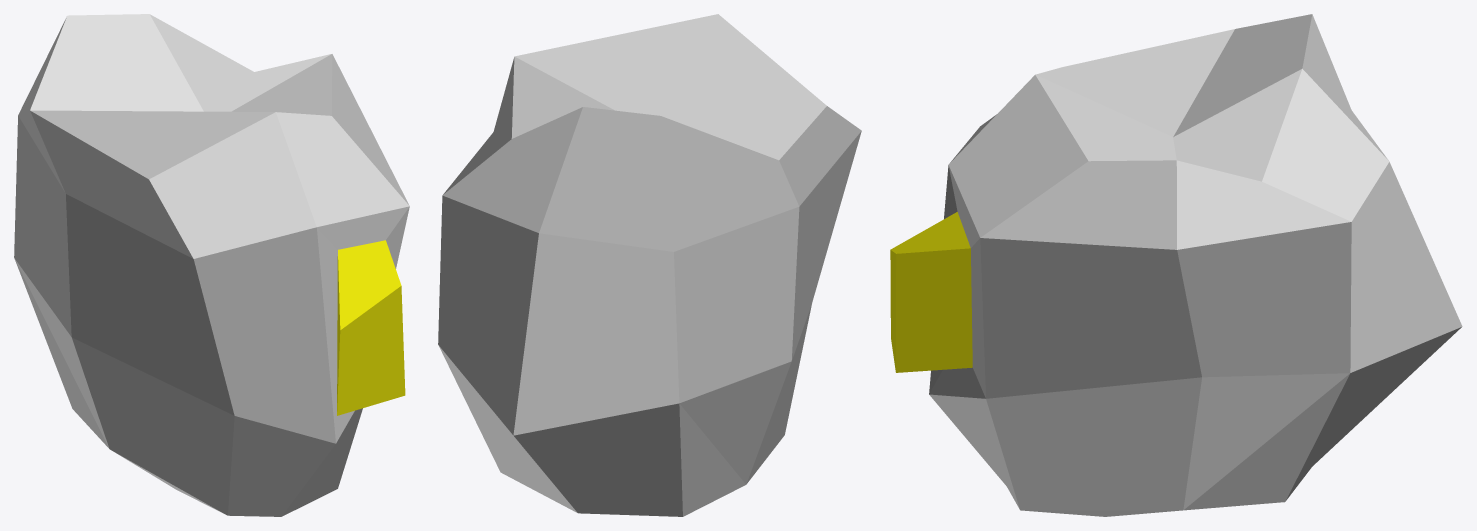
The picture shows the model from 3 angles, left to right: view 1: azimuth 30°, elevation 25°; view 2: azimuth 150°, elevation 25°; view 3: azimuth 270°, elevation 25°; orthographic projection. The views are drawn at different scales.
Visible parts, largest first — view 1: HumanoidBase_NotOverlapping; view 2: HumanoidBase_NotOverlapping; view 3: HumanoidBase_NotOverlapping.
Part boxes in pixels (x1,y1,x2,y2): HumanoidBase_NotOverlapping: [14, 14, 409, 516]; HumanoidBase_NotOverlapping: [438, 14, 861, 516]; HumanoidBase_NotOverlapping: [890, 14, 1462, 516].
Size of the model in its own units: 0.167 by 0.2254 by 0.2658.
